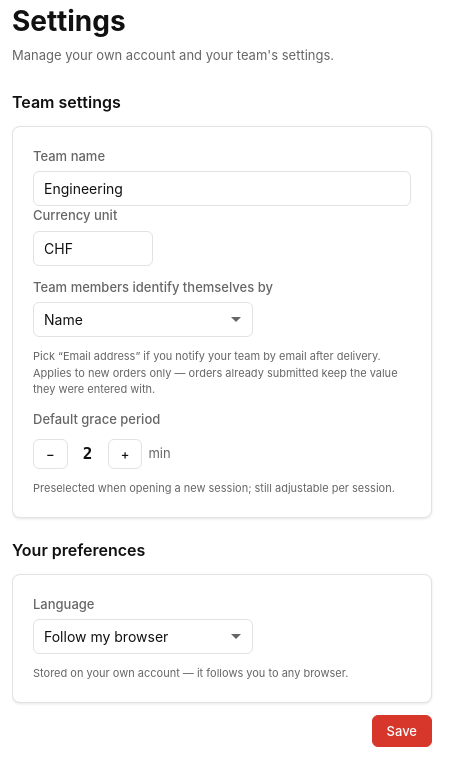
CPOSettings › saving › shows "Saved." when all three resolve
The image size is (449, 764).
Check: the dropdown labelled "Team members identify themselves by" is shown, box [33,302,253,337]
Click the button "Save". click: click(402, 730)
box: [372,714,432,746]
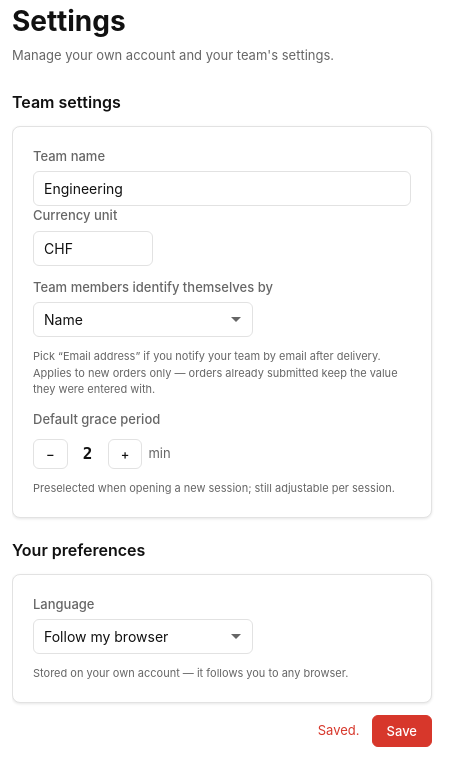
Check: the text "Saved." is shown, box [318,721,360,740]
